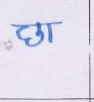aa_matra: (47, 24, 52, 43)
